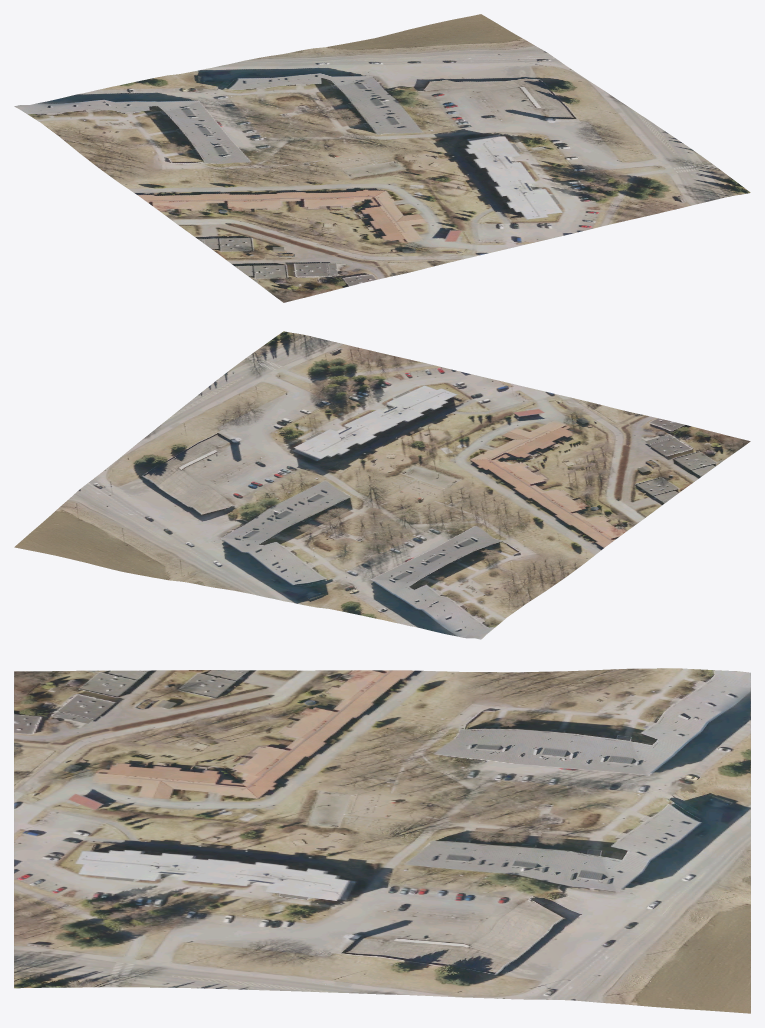
The model's file is CM_Terrain_24491687_6818565.fbx.
The picture shows the model from 3 angles, top to bottom: view 1: azimuth 30°, elevation 25°; view 2: azimuth 150°, elevation 25°; view 3: azimuth 270°, elevation 25°; orthographic projection. The views are drawn at different scales.
Visible parts, largest first — view 1: CM_Terrain_24491687_6818565_LOD0; view 2: CM_Terrain_24491687_6818565_LOD0; view 3: CM_Terrain_24491687_6818565_LOD0.
Part boxes in pixels (box(x1,y1,x2,y2)): CM_Terrain_24491687_6818565_LOD0: box(14, 14, 750, 302); CM_Terrain_24491687_6818565_LOD0: box(14, 331, 750, 639); CM_Terrain_24491687_6818565_LOD0: box(14, 668, 750, 1013).
Size of what is drawn, in the model's own units: 205 by 10.63 by 205.
